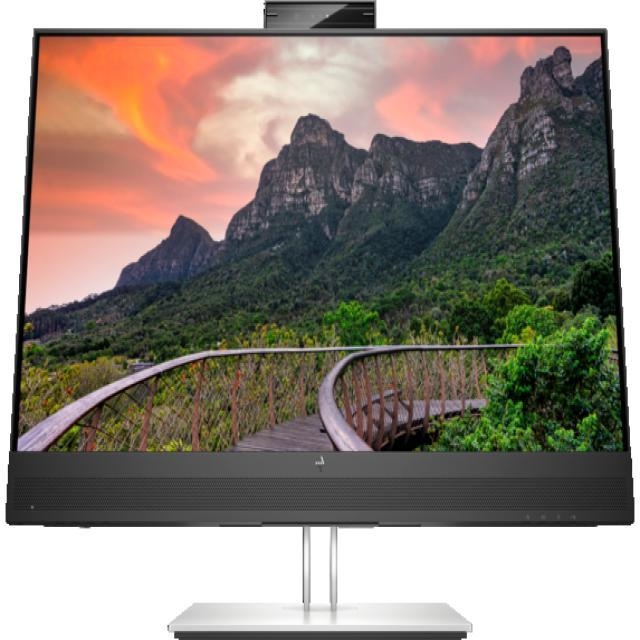monitor: (0, 18, 622, 640)
